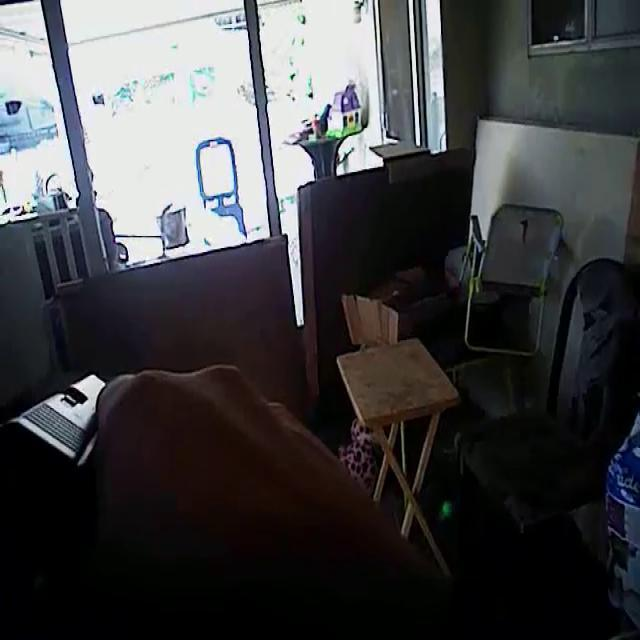gun: (0, 334, 163, 565)
